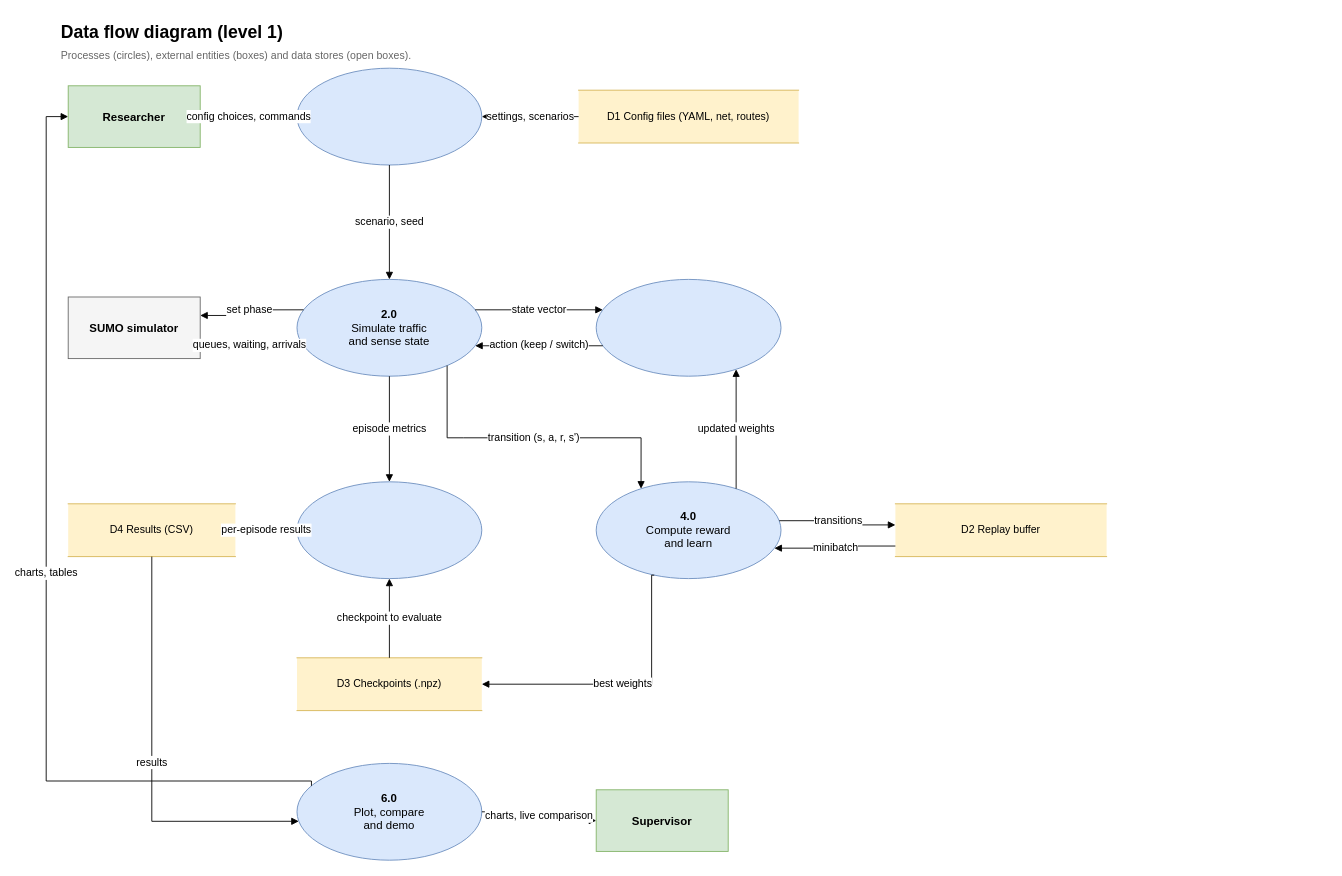
The diagram is 1342 pixels wide and 876 high, and some of its shapes have lost their labels. Here are the shapes that lost their labels. From the top down, the centre of each, then its label:
At (389,116): "1.0 Load configuration and scenarios".
At (688,327): "3.0 Select action (agent)".
At (389,530): "5.0 Record metrics and evaluate".
